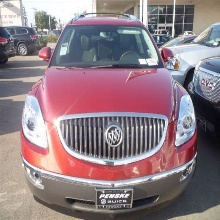no damage: (20, 13, 201, 217)
